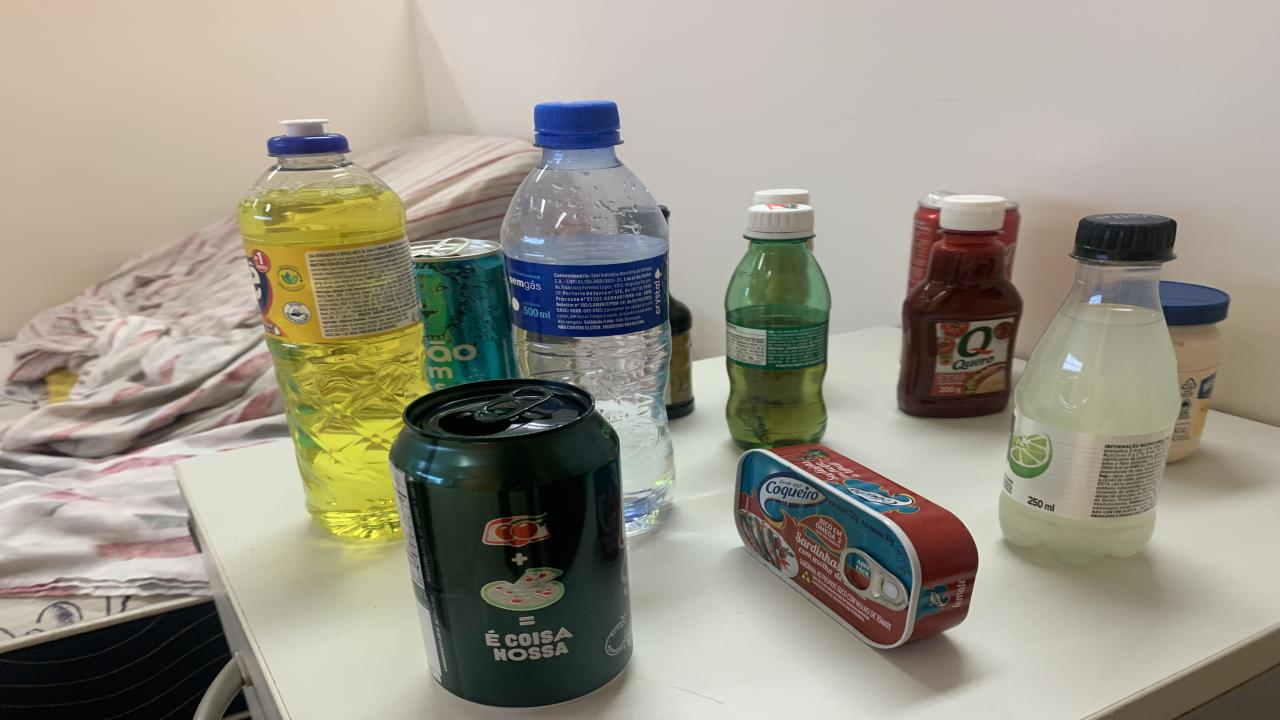Coke-Drinks: (908, 191, 952, 291), (1000, 199, 1020, 278)
Detergent-Cleanup_Items: (238, 120, 430, 538)
English_Sauce-Pantry_Items: (665, 294, 695, 418), (660, 204, 670, 221)
Guarana-Drinks: (390, 379, 632, 707), (725, 204, 830, 448)
Ketchup-Pantry_Items: (898, 195, 1022, 418)
Mayonnaise-Pantry_Items: (1160, 281, 1230, 461)
Soda-Drinks: (1000, 214, 1180, 564)
Tea-Drinks: (410, 238, 518, 390)
Tuna_Can-Pantry_Items: (735, 444, 978, 649)
Water_Bottle-Drinks: (500, 101, 675, 534)
